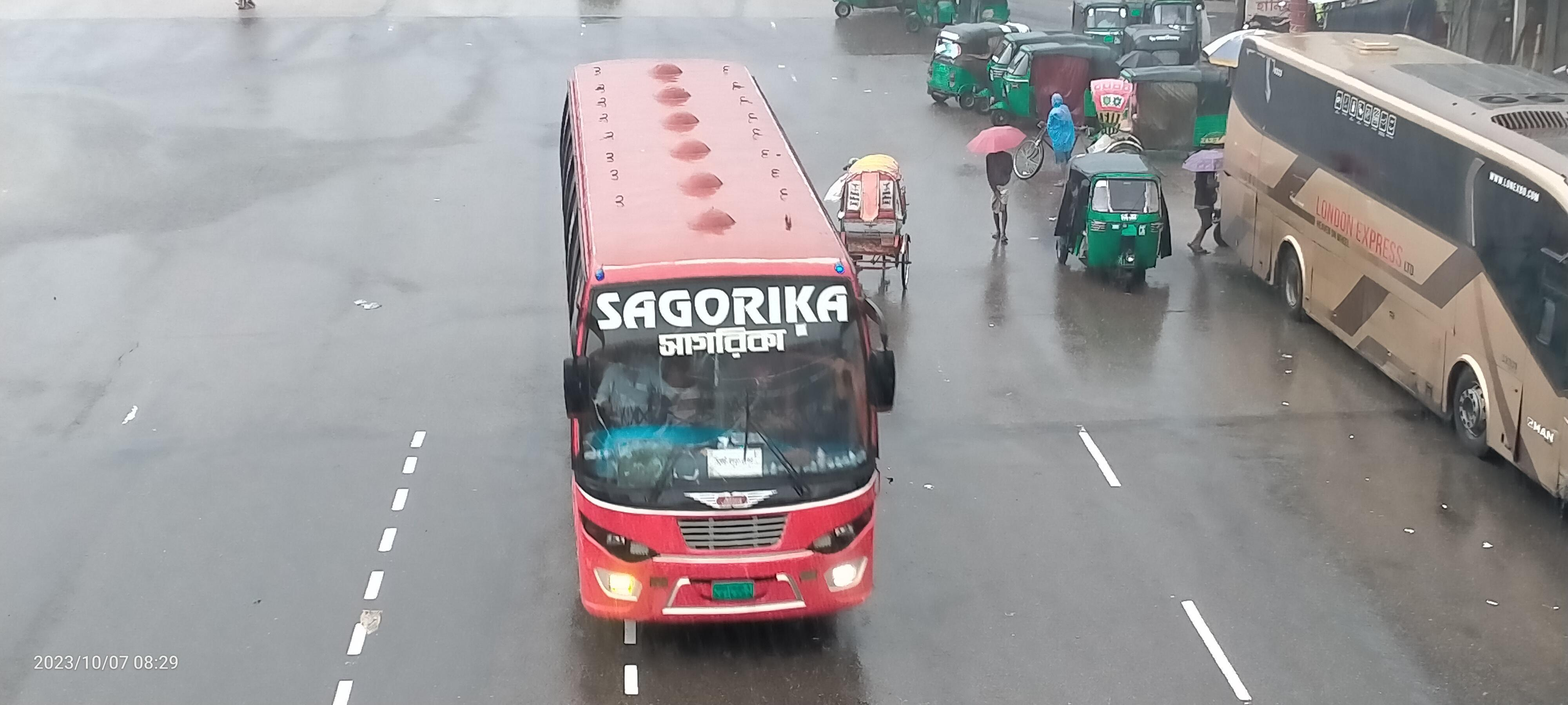Bus: (477, 0, 903, 680), (1201, 14, 1568, 533)
Car: (808, 144, 938, 301), (999, 75, 1142, 188)
